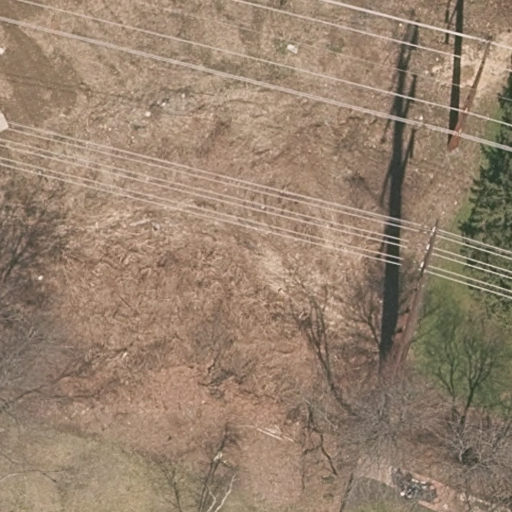TT: (387, 217, 441, 382), (450, 30, 487, 151)
